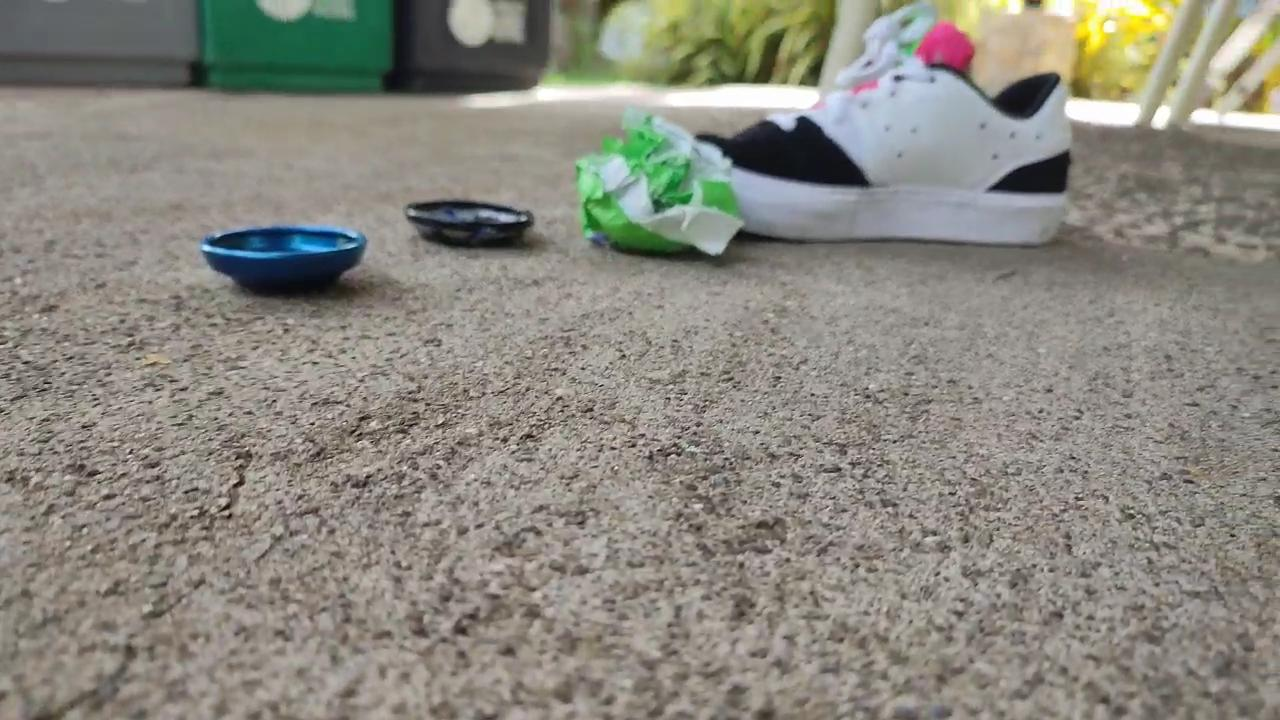paper: (576, 108, 741, 254)
